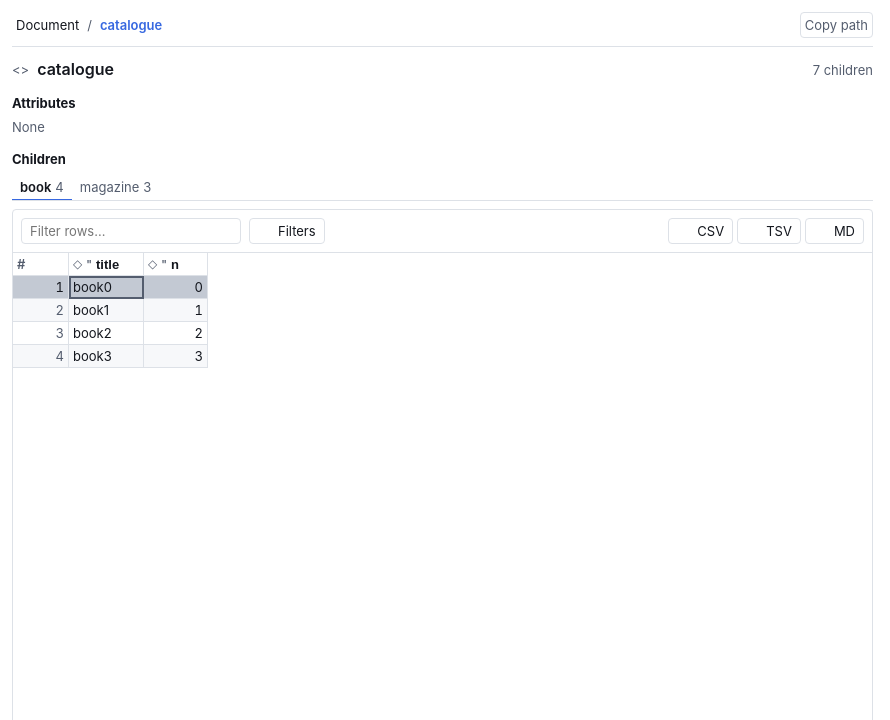
Test: R211 — one table at a time, a tab per group › clicking a tab swaps the table
The image size is (890, 720).
Click the tab "magazine 3" at (116, 188), box top-left (72, 175), bottom-right (159, 201)
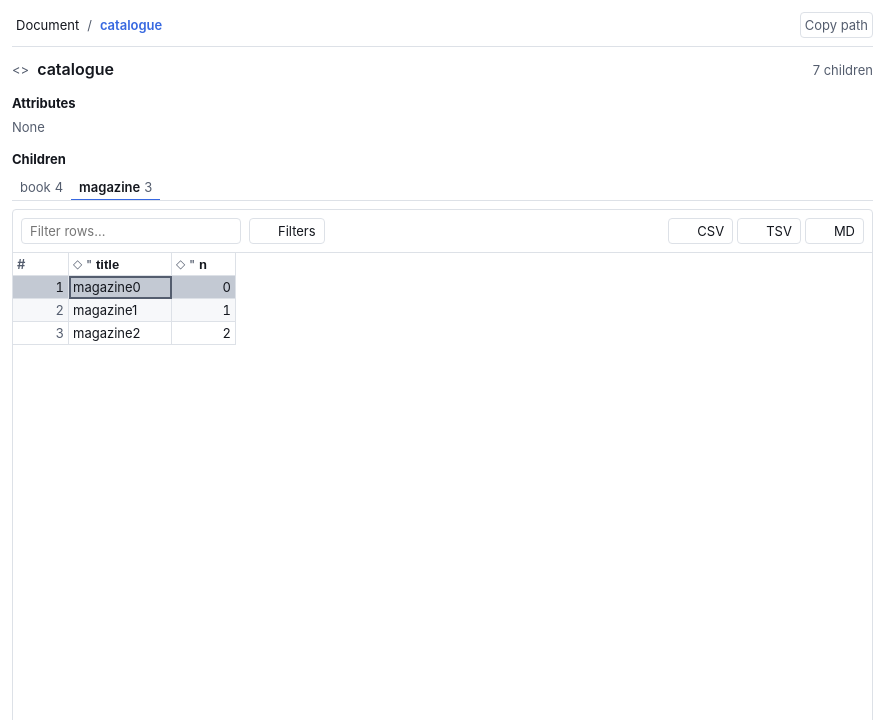
Check: the number of tables is 1, box top-left (13, 253), bottom-right (236, 345)
Check: the number of rows with class "grid-row" is 3, box top-left (13, 276), bottom-right (236, 299); top-left (13, 299), bottom-right (236, 322); top-left (13, 322), bottom-right (236, 345)
